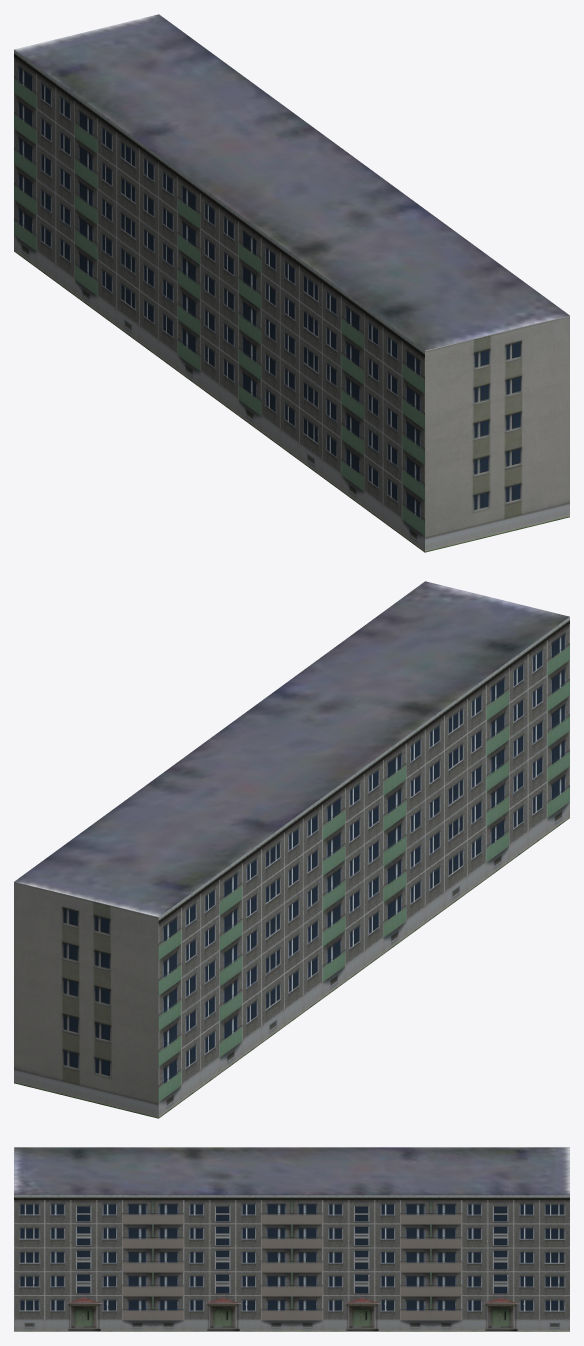
The model's file is maja5.dae.
The picture shows the model from 3 angles, top to bottom: view 1: azimuth 30°, elevation 25°; view 2: azimuth 150°, elevation 25°; view 3: azimuth 270°, elevation 25°; orthographic projection. The views are drawn at different scales.
Parts seen in each view (by area): view 1: Sõpruse 241, Tallinn; view 2: Sõpruse 241, Tallinn; view 3: Sõpruse 241, Tallinn.
Part boxes in pixels (x1,y1,x2,y2): Sõpruse 241, Tallinn: [14, 14, 569, 552]; Sõpruse 241, Tallinn: [14, 581, 569, 1118]; Sõpruse 241, Tallinn: [14, 1147, 569, 1331].
Size of the model in its own units: 11.64 by 57.01 by 15.43.
